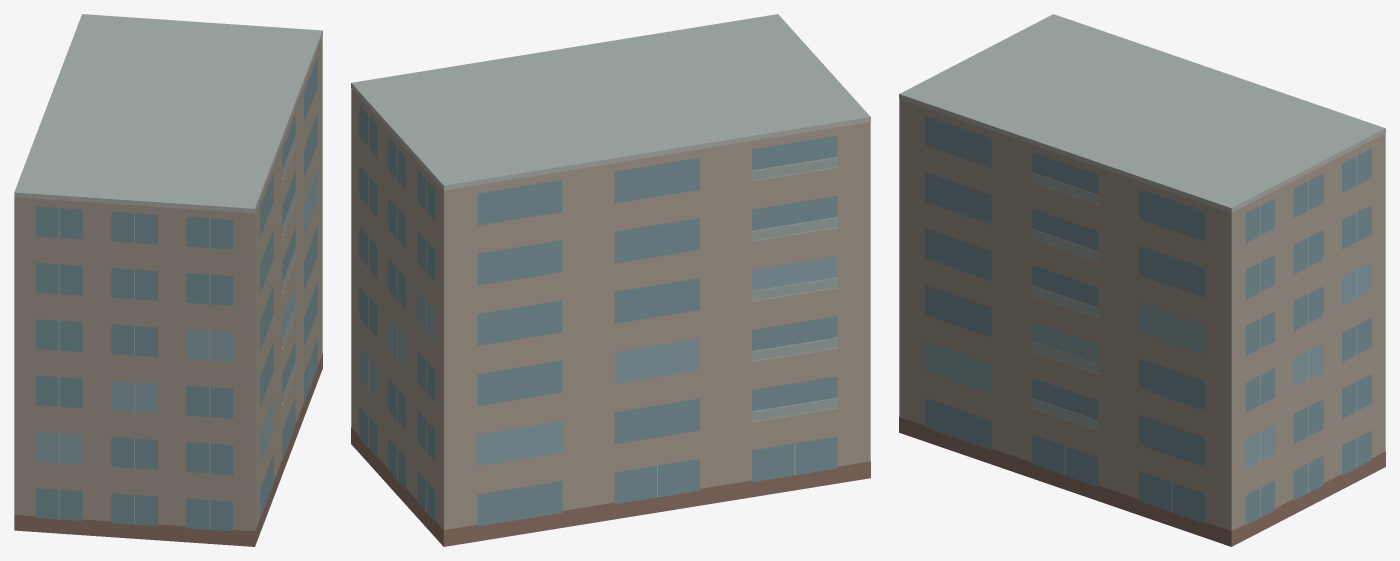
Rendered from survey-upis-33005886.glb.
The picture shows the model from 3 angles, left to right: view 1: azimuth 30°, elevation 25°; view 2: azimuth 150°, elevation 25°; view 3: azimuth 270°, elevation 25°; orthographic projection. The views are drawn at different scales.
Visible parts, largest first — view 1: survey-upis-33005886.tmp; view 2: survey-upis-33005886.tmp; view 3: survey-upis-33005886.tmp.
Part boxes in pixels (left/top/right/bottom): survey-upis-33005886.tmp: left=14, top=14, right=322, bottom=546; survey-upis-33005886.tmp: left=351, top=14, right=870, bottom=546; survey-upis-33005886.tmp: left=899, top=14, right=1385, bottom=546.
Size of the model in its own units: 21.41 by 17.4 by 22.66.
